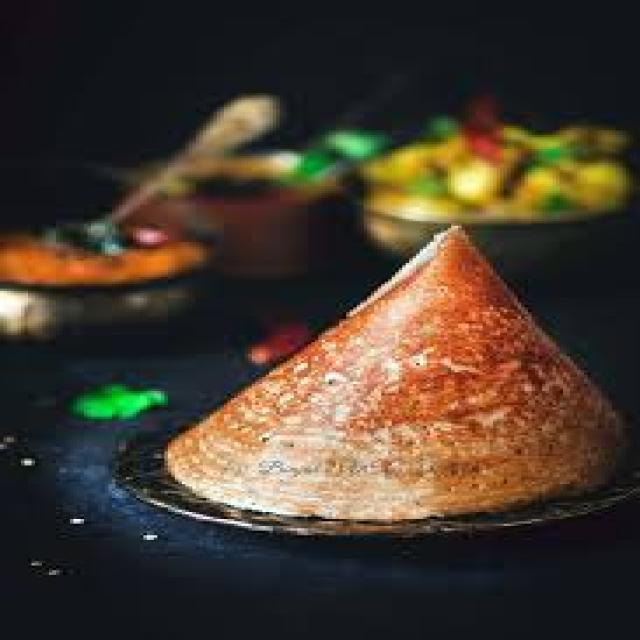DOSA: (161, 219, 637, 518)
